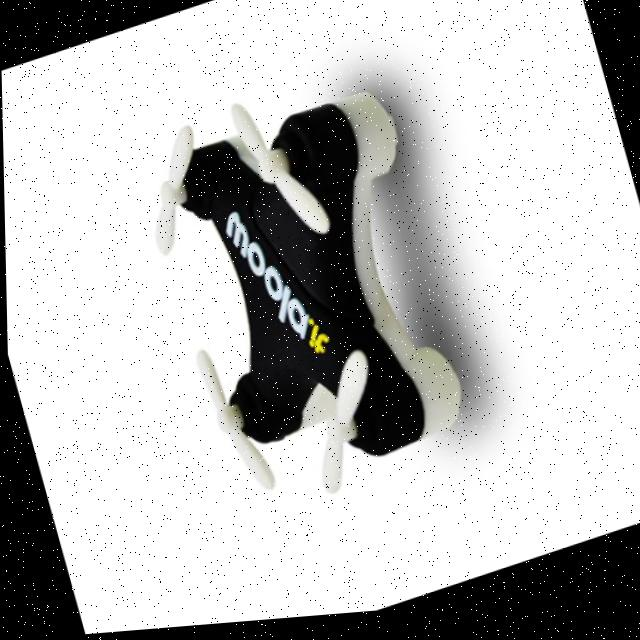drones: (40, 4, 504, 589)
